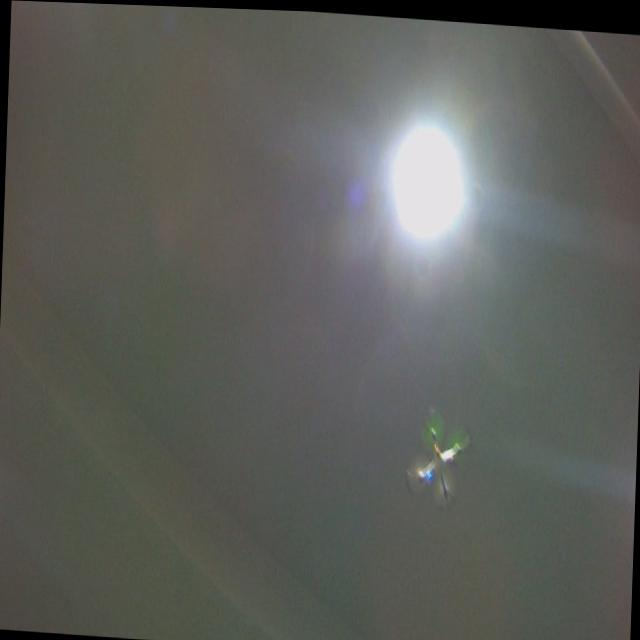drone: (402, 399, 476, 512)
